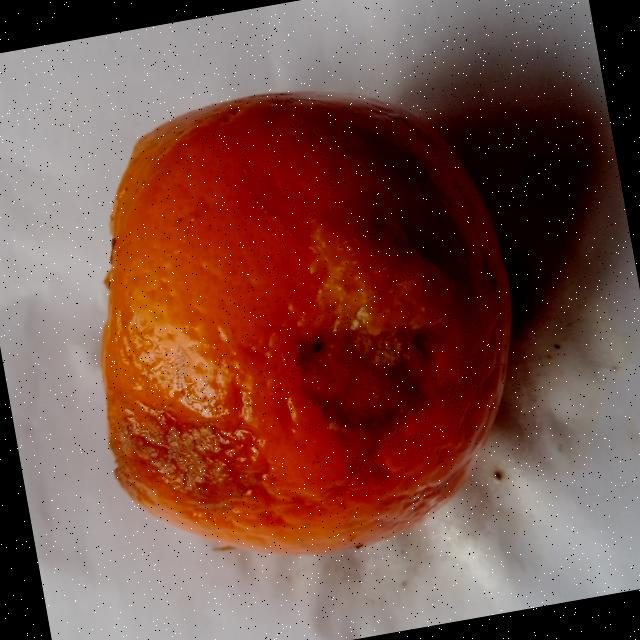Rotten: (46, 54, 548, 585)
